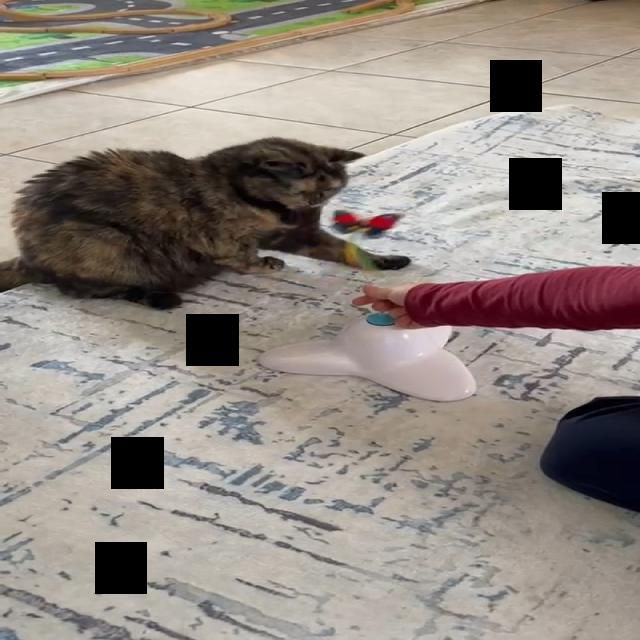authorized: (0, 136, 411, 310)
